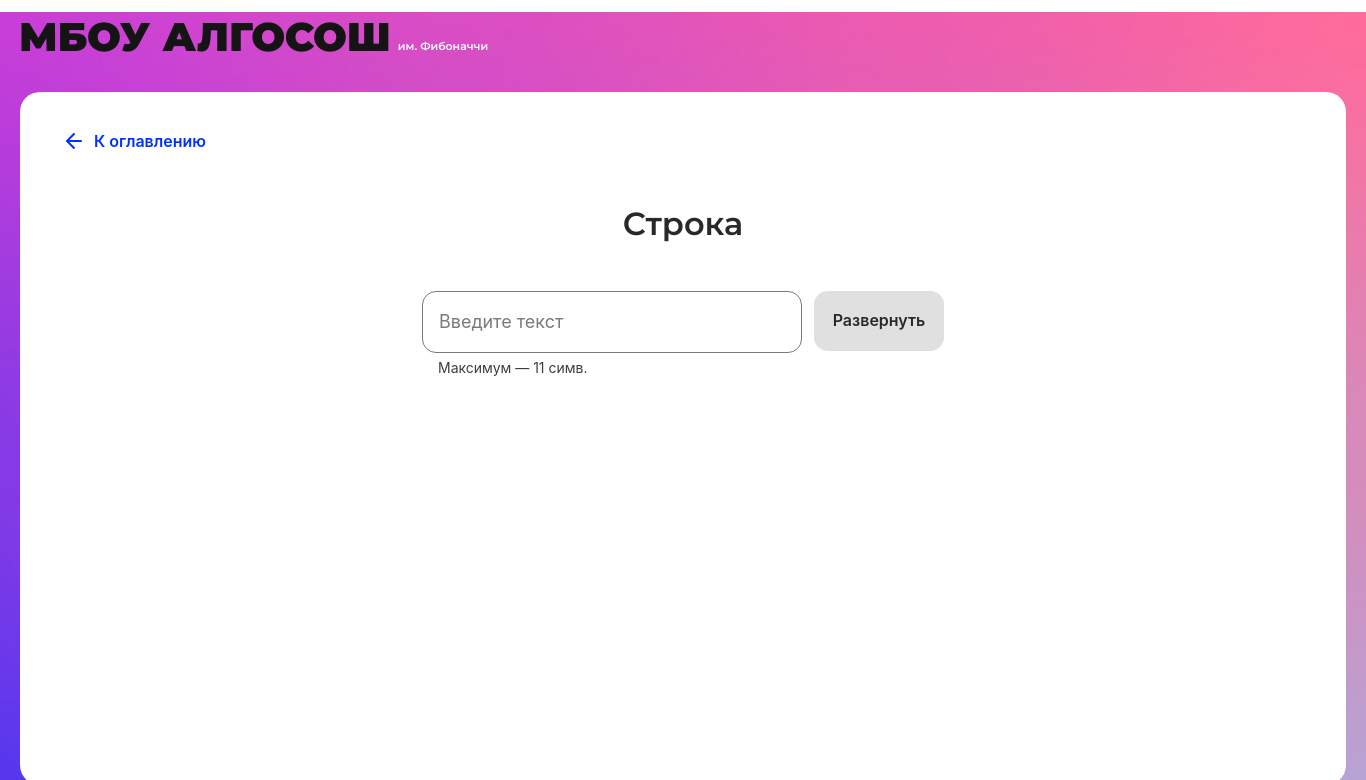
Test case: string test › button is enabled when input has text
Type "1234" into the field with placeholder "Введите текст" at (612, 322), box [422,291,802,353]
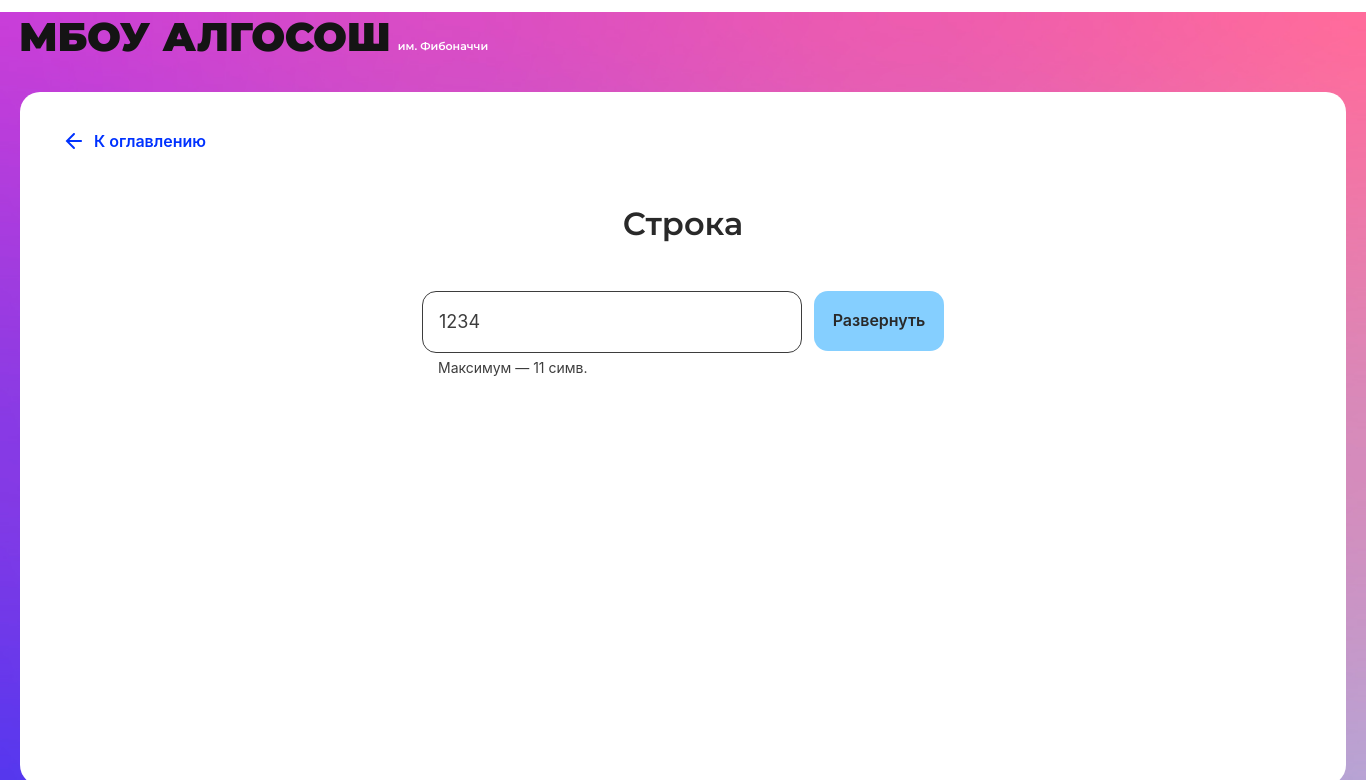
Expected: the button named "add" is enabled, [814,291,944,351]
